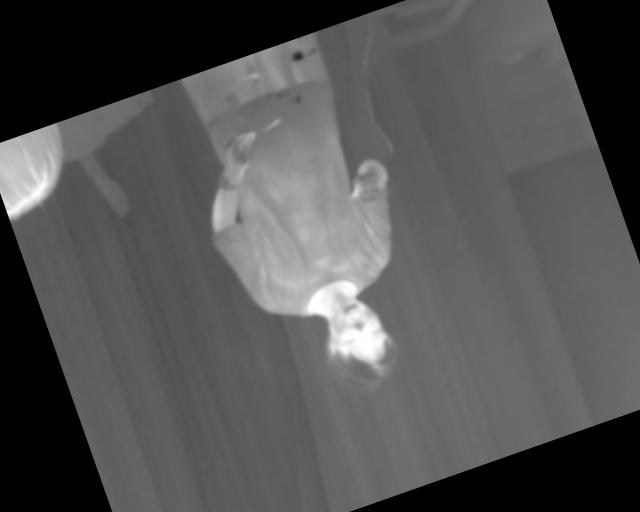face: (309, 282, 407, 399)
